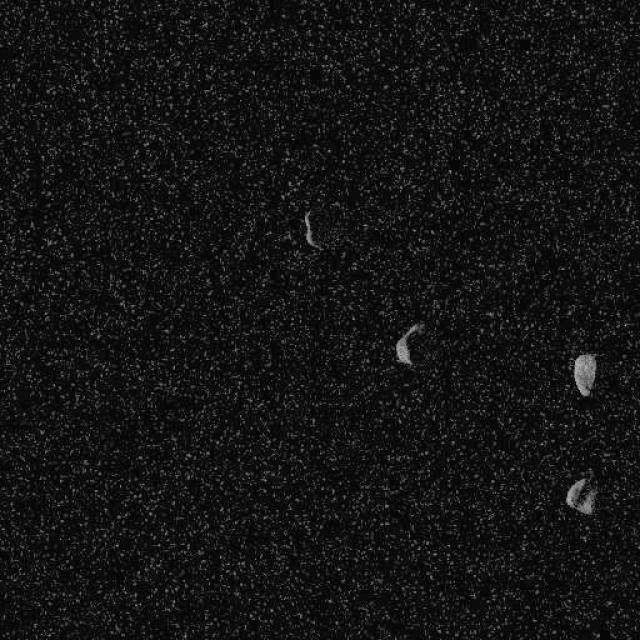D2: (394, 320, 425, 366), (565, 475, 596, 515), (572, 352, 596, 396), (302, 209, 322, 251)
